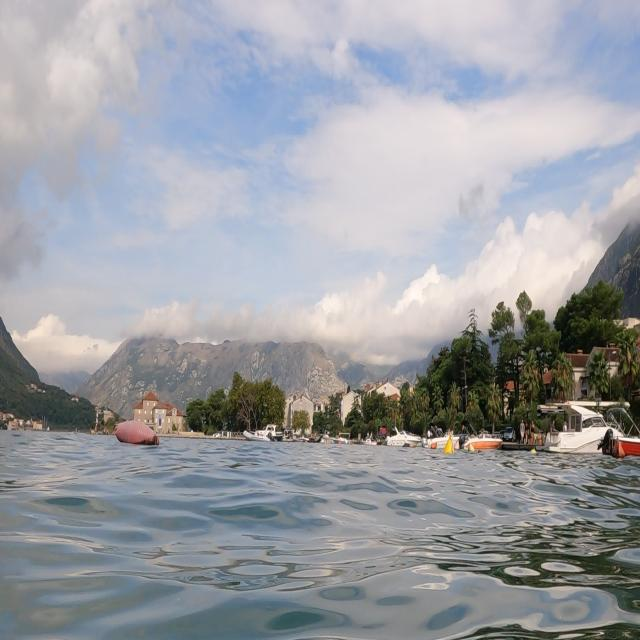boat: (540, 391, 640, 467), (374, 420, 427, 458), (238, 408, 288, 447)
buoy: (108, 410, 166, 452)
